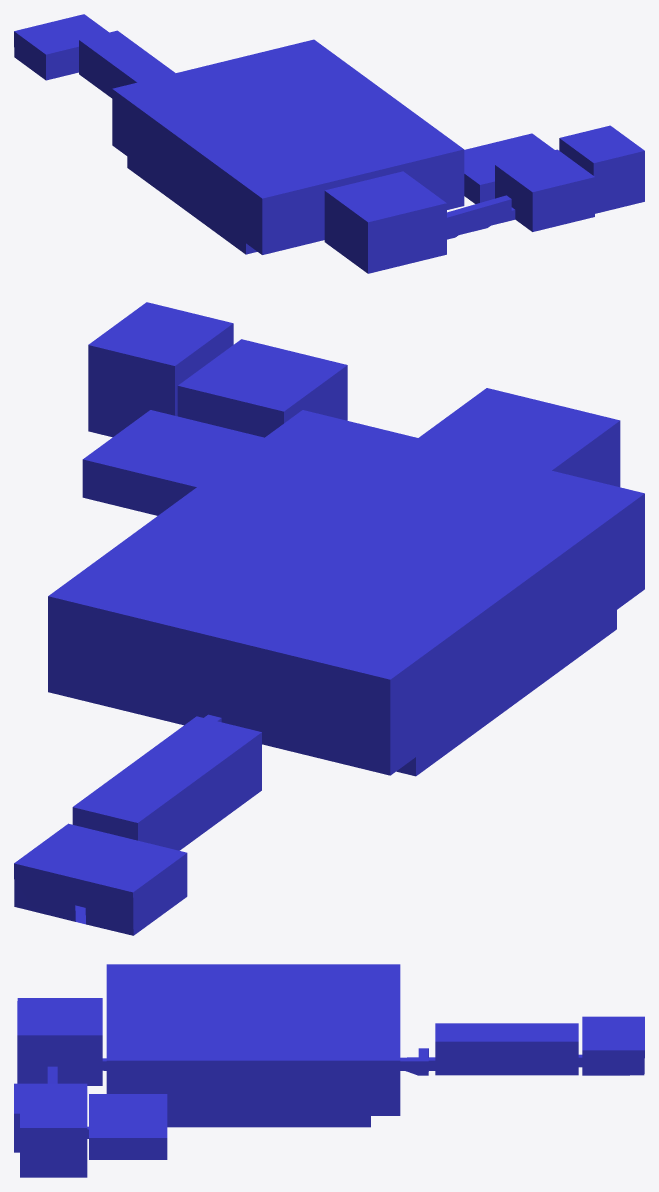
File: Zone5_Map.fbx
The picture shows the model from 3 angles, top to bottom: view 1: azimuth 30°, elevation 25°; view 2: azimuth 150°, elevation 25°; view 3: azimuth 270°, elevation 25°; orthographic projection. The views are drawn at different scales.
Visible parts, largest first — view 1: Zone5MAP; view 2: Zone5MAP; view 3: Zone5MAP.
Part boxes in pixels (left/top/right/bottom): Zone5MAP: left=14, top=14, right=644, bottom=273; Zone5MAP: left=14, top=302, right=644, bottom=935; Zone5MAP: left=14, top=964, right=644, bottom=1177.
Size of the model in its own units: 7917 by 1539 by 13076.
